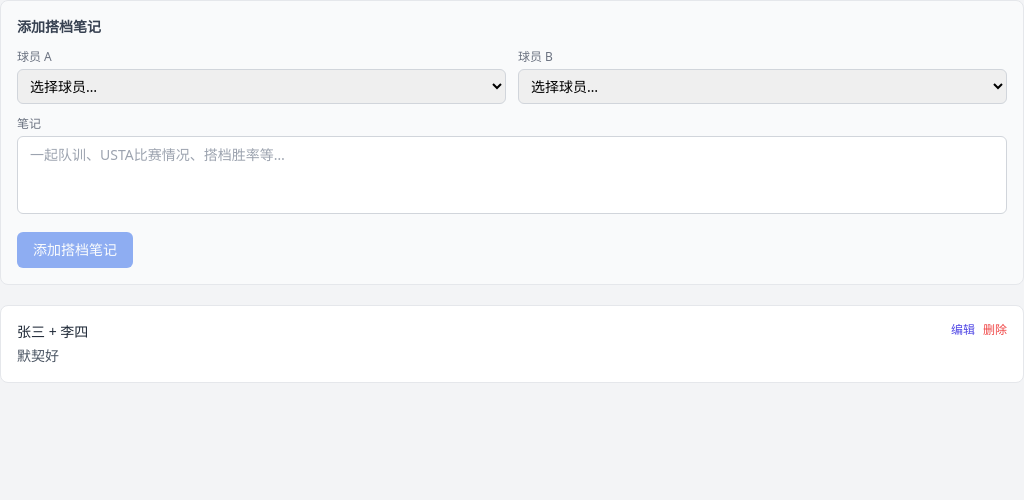
Scenario: PartnerNotesEditor › clicking edit shows inline editable textarea
Click the button "编辑" at {"x": 963, "y": 330}, box [951,322,975,338]
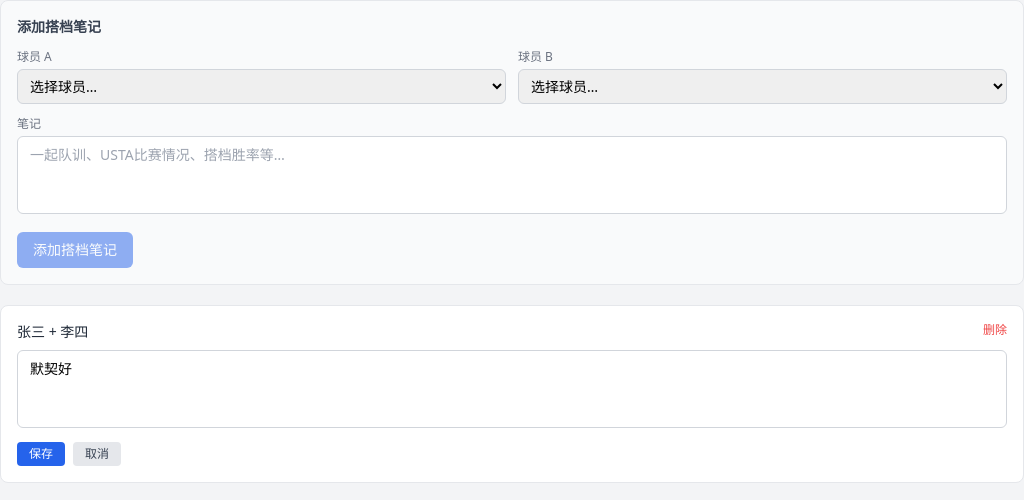
Expected: the button "保存" is shown, [17,442,65,466]
Expected: the 2nd text box is shown, [17,350,1007,428]
